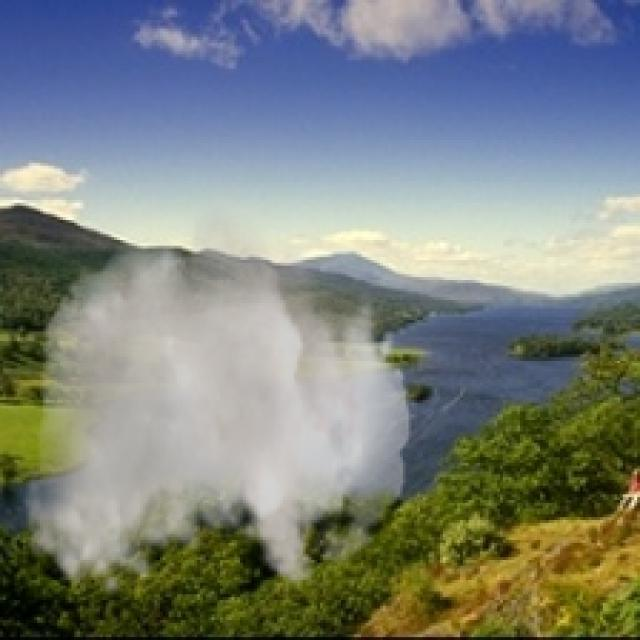Smoke: (22, 185, 412, 600)
